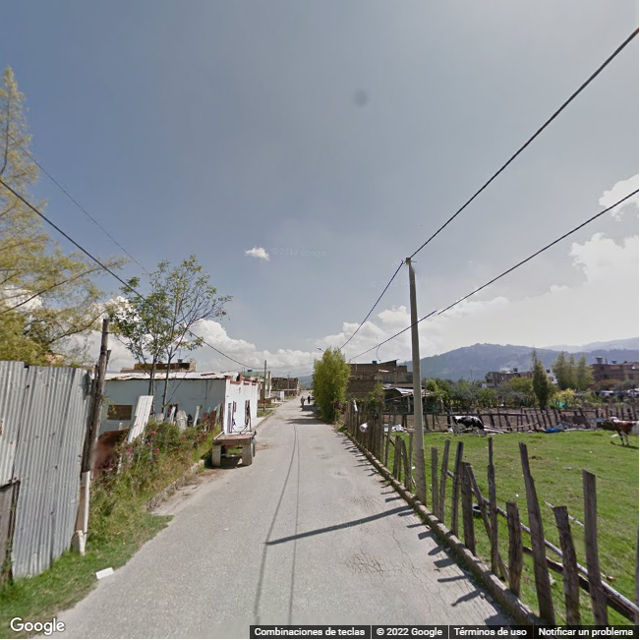D00: (373, 494, 418, 561), (416, 562, 453, 618), (407, 561, 438, 621)
D20: (344, 548, 384, 574)
